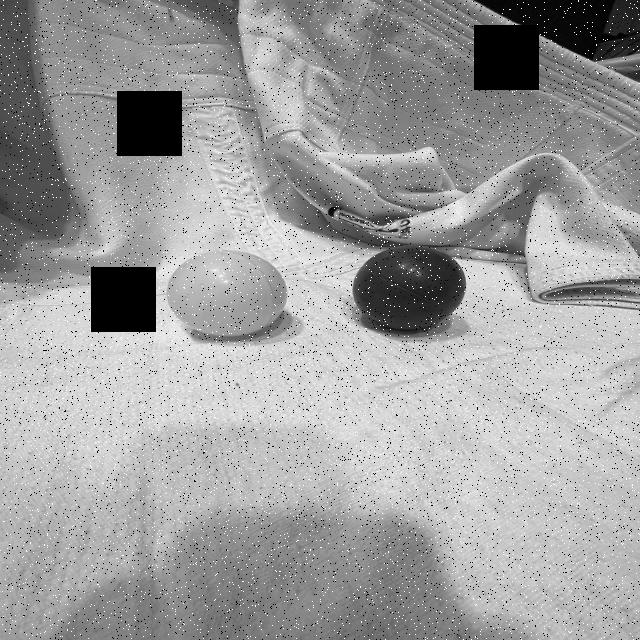ball: (162, 250, 292, 339), (352, 243, 470, 333)
